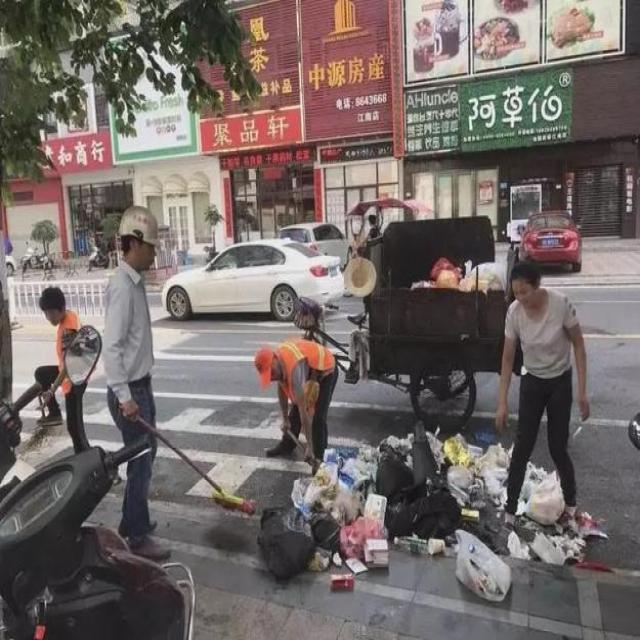garbage: (260, 420, 610, 603)
